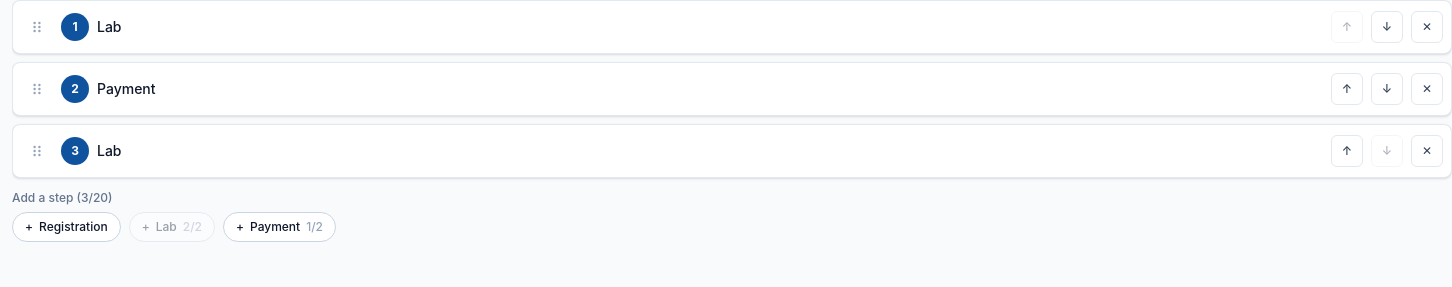
Test: JourneyBuilder › flags a step that breaks a rule after a move
Click the button named "Move Payment up". click: (1347, 89)
box: [1331,73,1363,105]
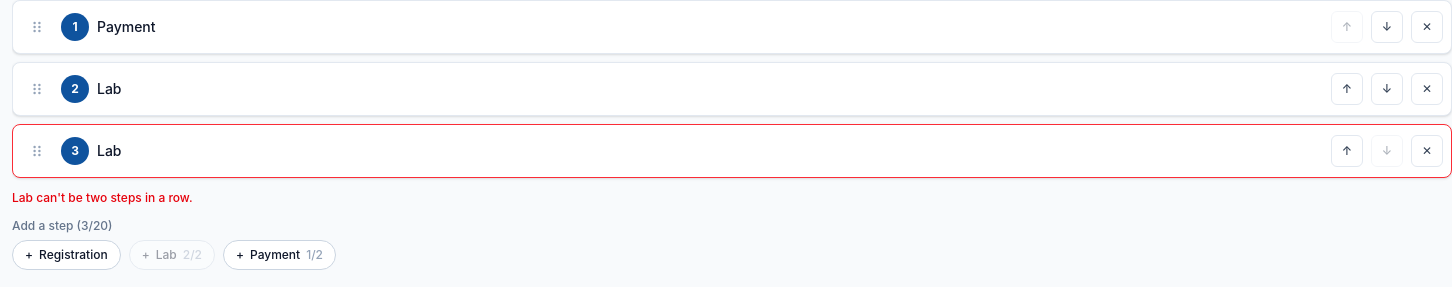
Expected: the message reads "Lab can't be two steps in a row.", [12,190,193,205]
